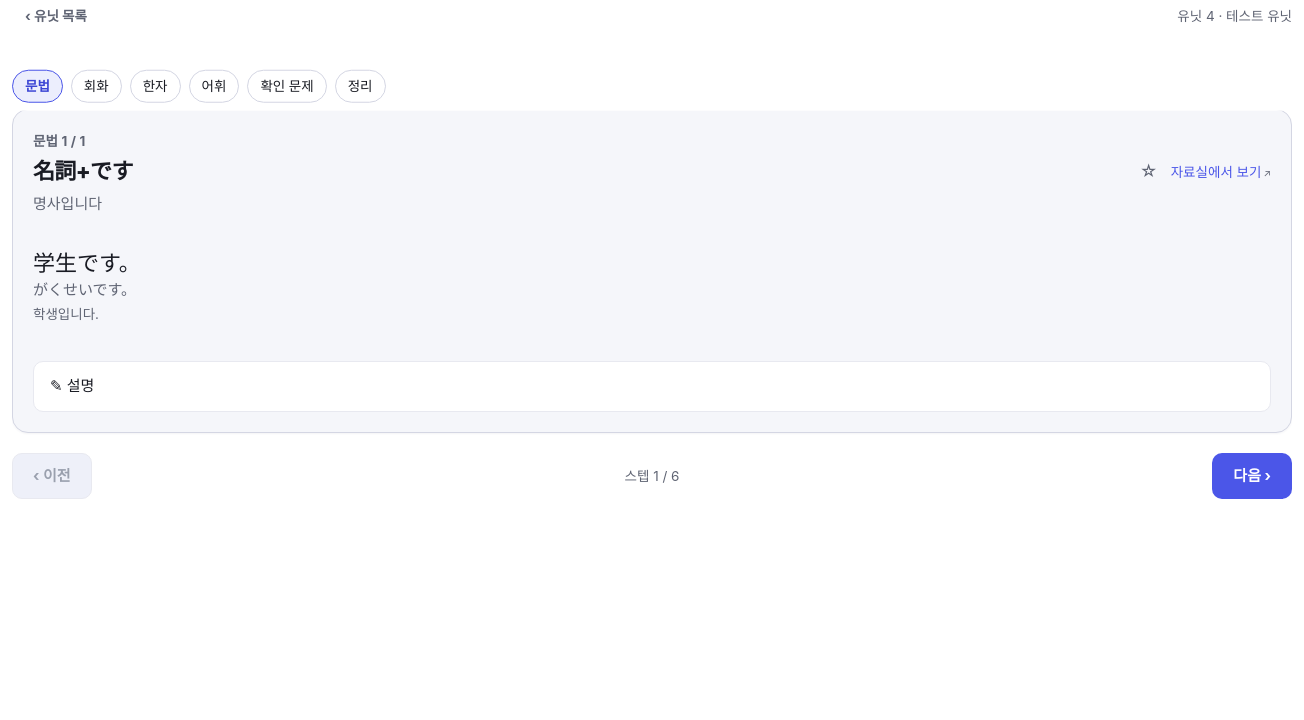
Test case: 전진 버튼 — 정리에만 [다음 유닛], 그 앞은 전부 [다음 ›] (AC-Q-3 · AC-Q-5) › 확인 문제 스텝(풀기 전)에는 [다음 유닛]류가 없고 [다음 ›] 하나가 정리로 간다
This screenshot has width=1304, height=720.
Click the button "확인 문제" at point(287, 86), box [247,70,327,102]
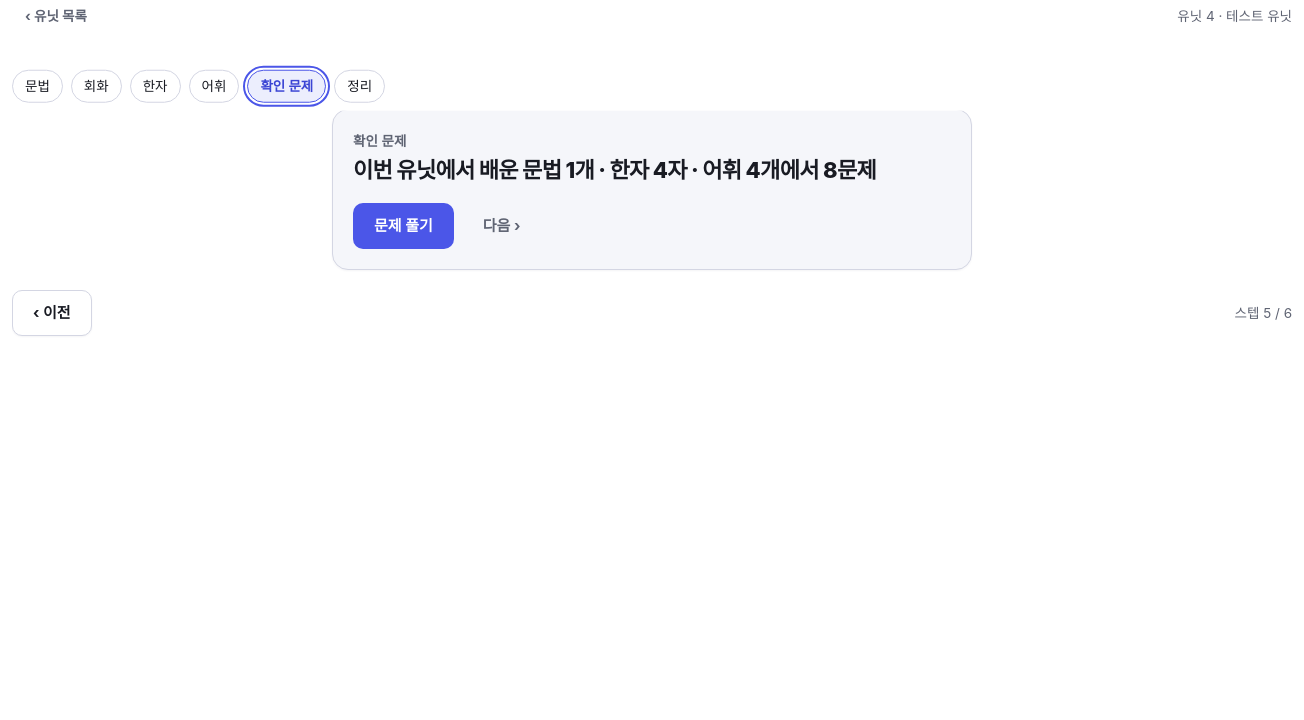
Check: the button "문제 풀기" is shown, box [353,204,454,250]
Check: the number of buttons "다음 ›" is 1
Click the button "다음 ›" at point(502, 226), box [462,204,541,250]
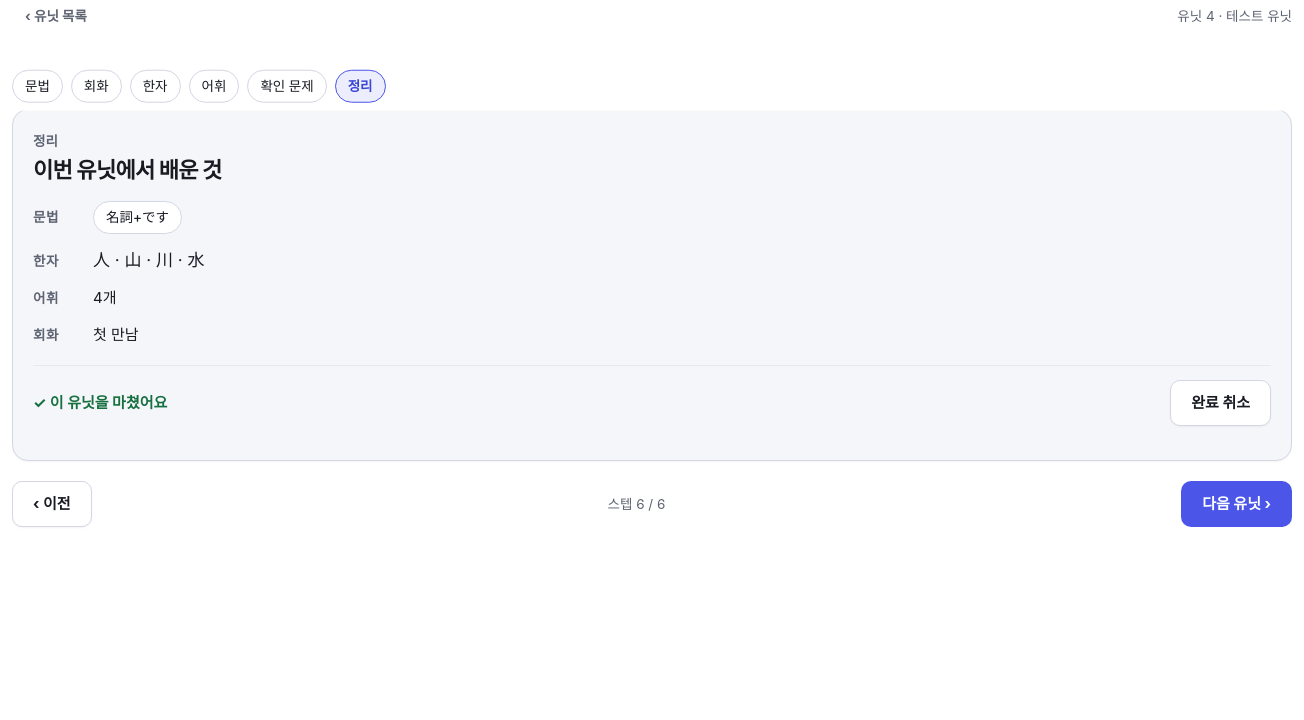
Check: the heading "이번 유닛에서 배운 것" is shown, box [33,157,222,183]
Check: the text "스텝 6 / 6" is shown, box [608,493,665,516]
